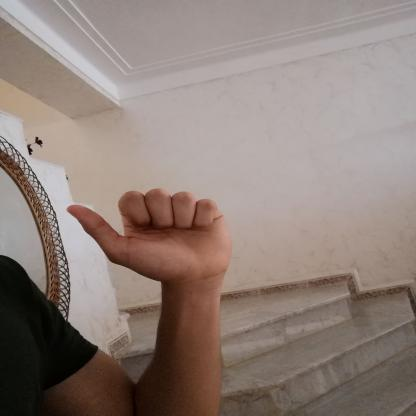DAD: (54, 180, 243, 292)
